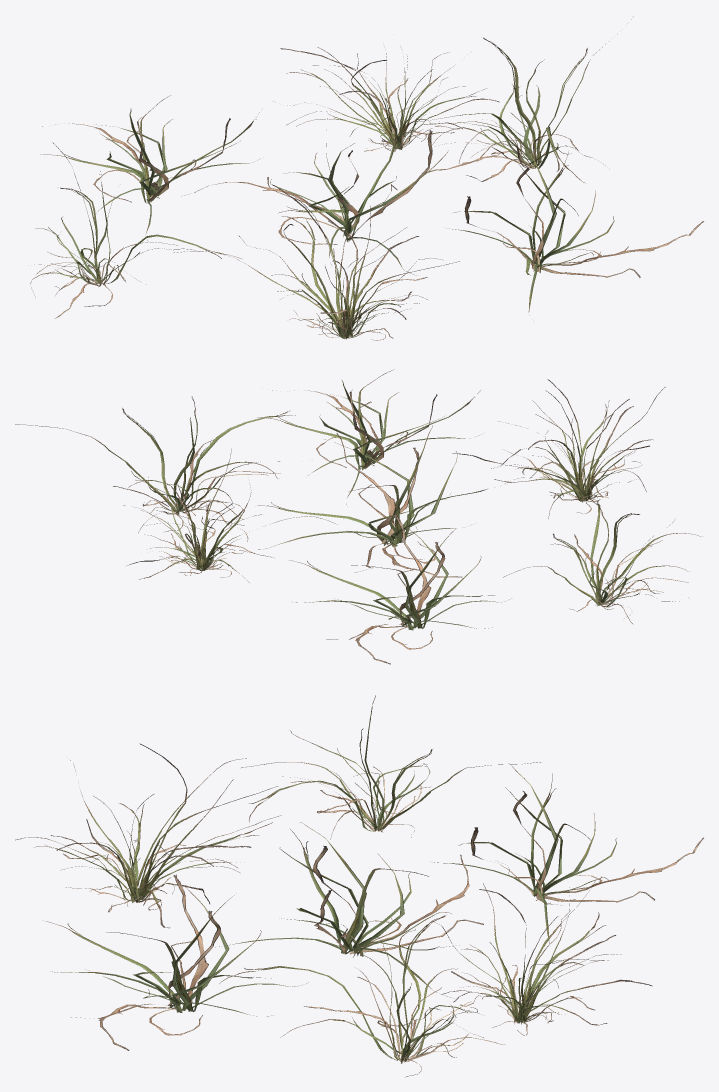
File: Grass_Patch_Soft.fbx
The picture shows the model from 3 angles, top to bottom: view 1: azimuth 30°, elevation 25°; view 2: azimuth 150°, elevation 25°; view 3: azimuth 270°, elevation 25°; orthographic projection. The views are drawn at different scales.
Visible parts, largest first — view 1: Grass_Patch_Soft; view 2: Grass_Patch_Soft; view 3: Grass_Patch_Soft.
Part boxes in pixels (x1=…): Grass_Patch_Soft: x1=30, y1=16, x2=703, y2=340; Grass_Patch_Soft: x1=15, y1=369, x2=700, y2=664; Grass_Patch_Soft: x1=15, y1=695, x2=703, y2=1077.
Size of the model in its own units: 0.72 by 0.13 by 0.6104.
1 material, 1 textured.
